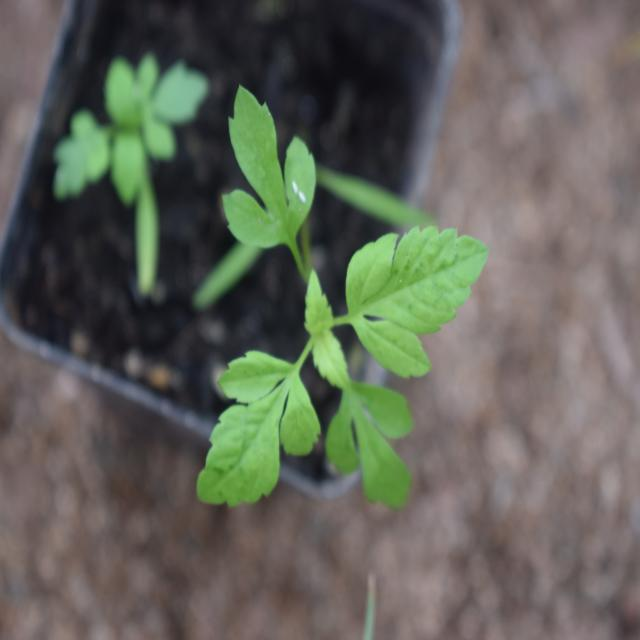Bidens pilosa: (181, 92, 485, 534)
